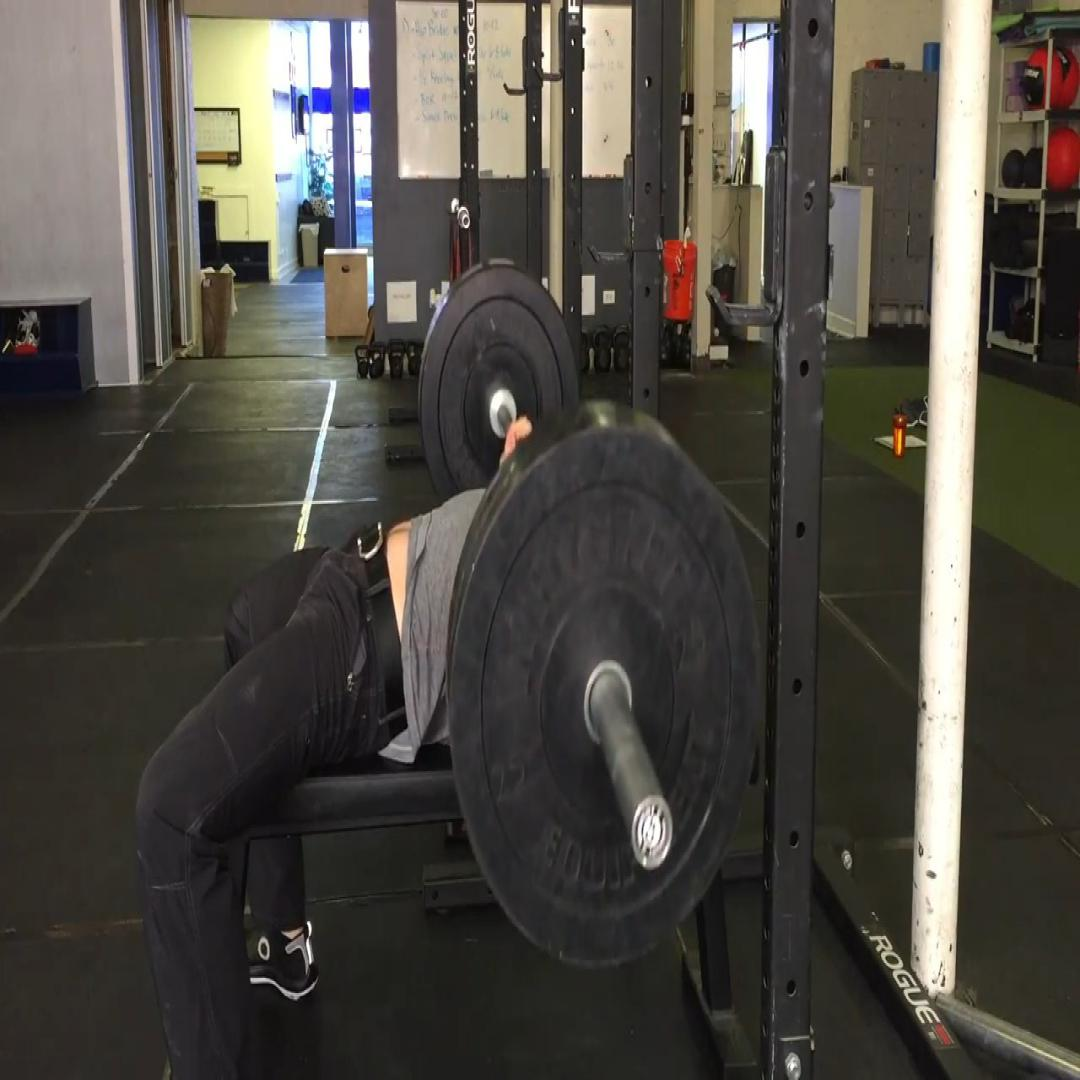Bar: (630, 796, 674, 872)
Barbell: (449, 426, 761, 970)
